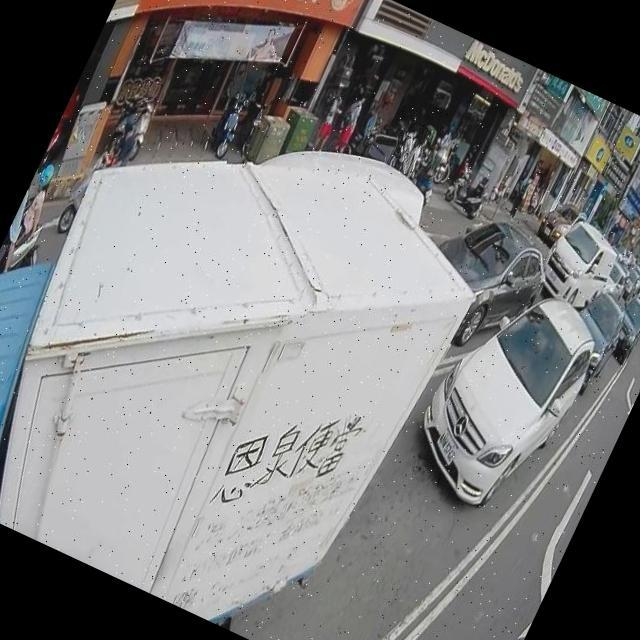person: (0, 158, 67, 277), (100, 107, 150, 172), (328, 89, 372, 157), (310, 87, 350, 155), (423, 127, 458, 182), (333, 80, 366, 136), (398, 132, 431, 180), (388, 126, 419, 172), (508, 172, 536, 220)
